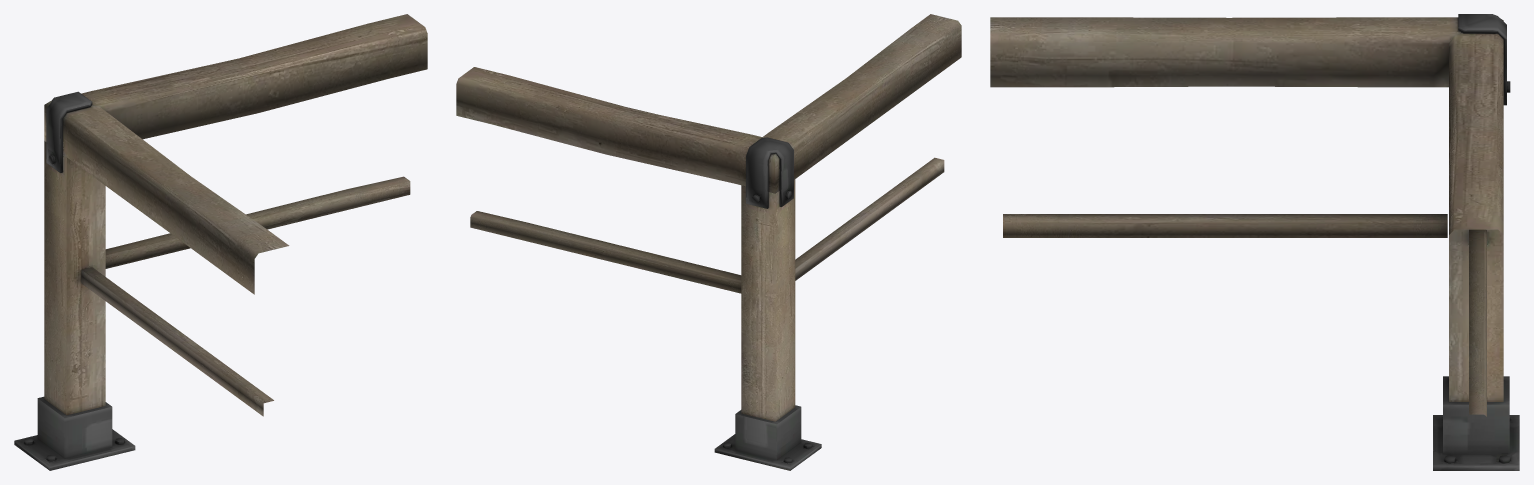
3 views of the same model, side by side, from view 1: azimuth 30°, elevation 25°; view 2: azimuth 150°, elevation 25°; view 3: azimuth 270°, elevation 25° (orthographic). The views are drawn at different scales.
Visible parts, largest first — view 1: body0_model0_lod0_mesh0; view 2: body0_model0_lod0_mesh0; view 3: body0_model0_lod0_mesh0.
Boxes of the visible parts, x1,y1,x2,y2 form: body0_model0_lod0_mesh0: (14,14,427,470); body0_model0_lod0_mesh0: (456,14,961,470); body0_model0_lod0_mesh0: (990,14,1519,470).
Size of the model in its own units: 71.29 by 61.42 by 69.76.
Materials: 1 (1 with a texture image).
